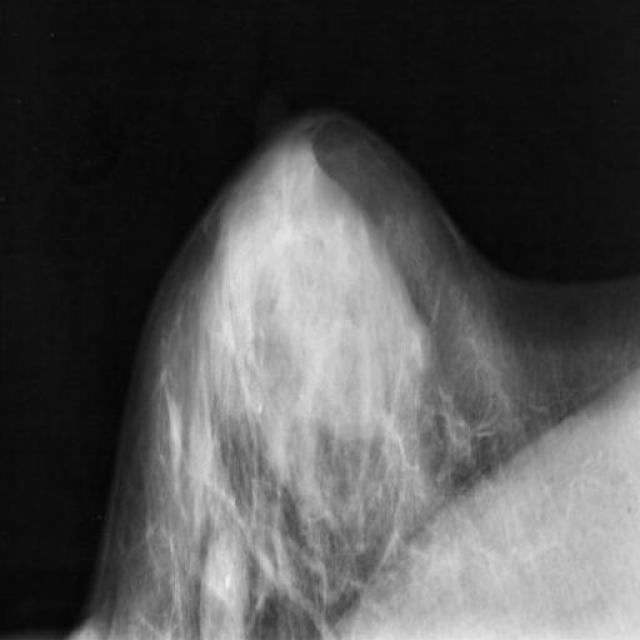cancer: (196, 524, 245, 634)
